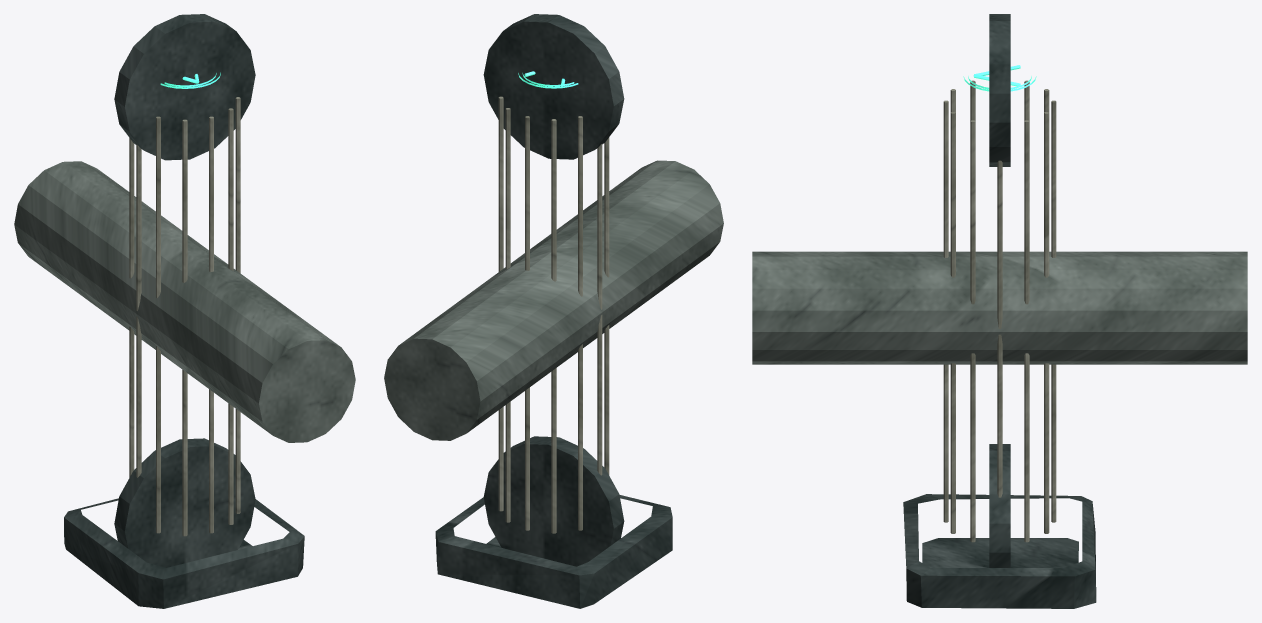
Rendered from 0282_fluted_column_07.glb.
3 views of the same model, side by side, from view 1: azimuth 30°, elevation 25°; view 2: azimuth 150°, elevation 25°; view 3: azimuth 270°, elevation 25° (orthographic).
Visible parts, largest first — view 1: stone, stone_dark, stone_light; view 2: stone, stone_dark, stone_light; view 3: stone, stone_dark, stone_light.
Boxes of the visible parts, bbox=[...] form: stone: bbox=[14, 161, 355, 442]; stone_dark: bbox=[64, 14, 304, 608]; stone_light: bbox=[129, 97, 240, 536]; stone: bbox=[384, 160, 723, 440]; stone_dark: bbox=[435, 14, 672, 608]; stone_light: bbox=[498, 96, 609, 533]; stone: bbox=[752, 251, 1247, 364]; stone_dark: bbox=[903, 14, 1096, 608]; stone_light: bbox=[943, 80, 1056, 542].
Bounding box in the file's own units: 1.27 × 4.14 × 3.27.
Materials: 4 (4 with a texture image).
